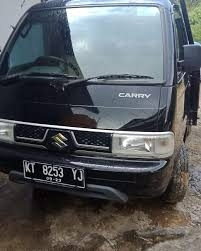plate: (23, 159, 83, 187)
